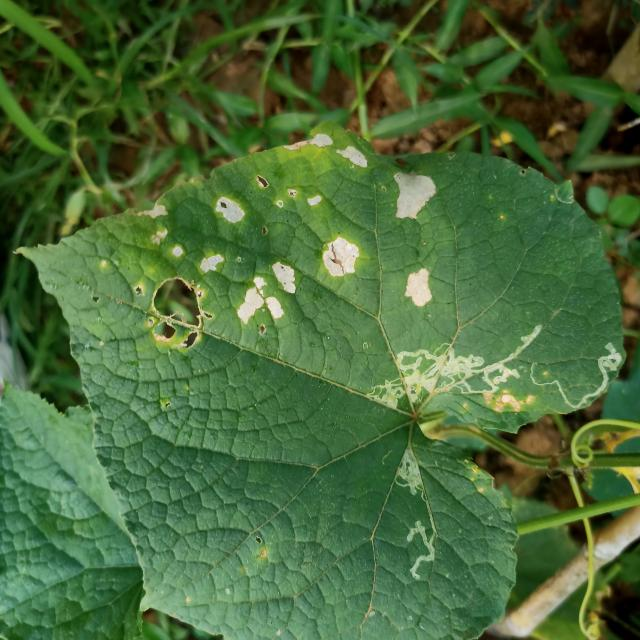disease_cucumber: (96, 129, 368, 361), (384, 161, 441, 317)
